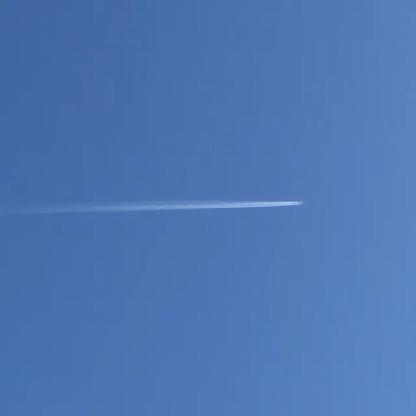CIV_Plane: (295, 198, 308, 206)
